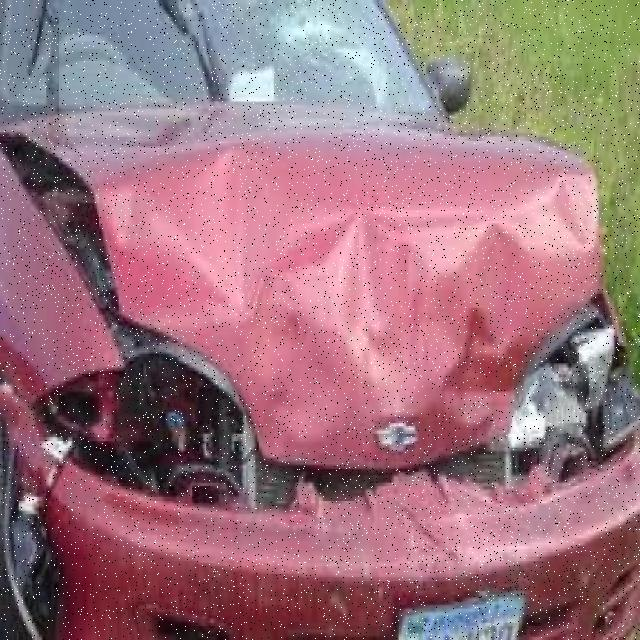damage: (32, 164, 639, 543)
